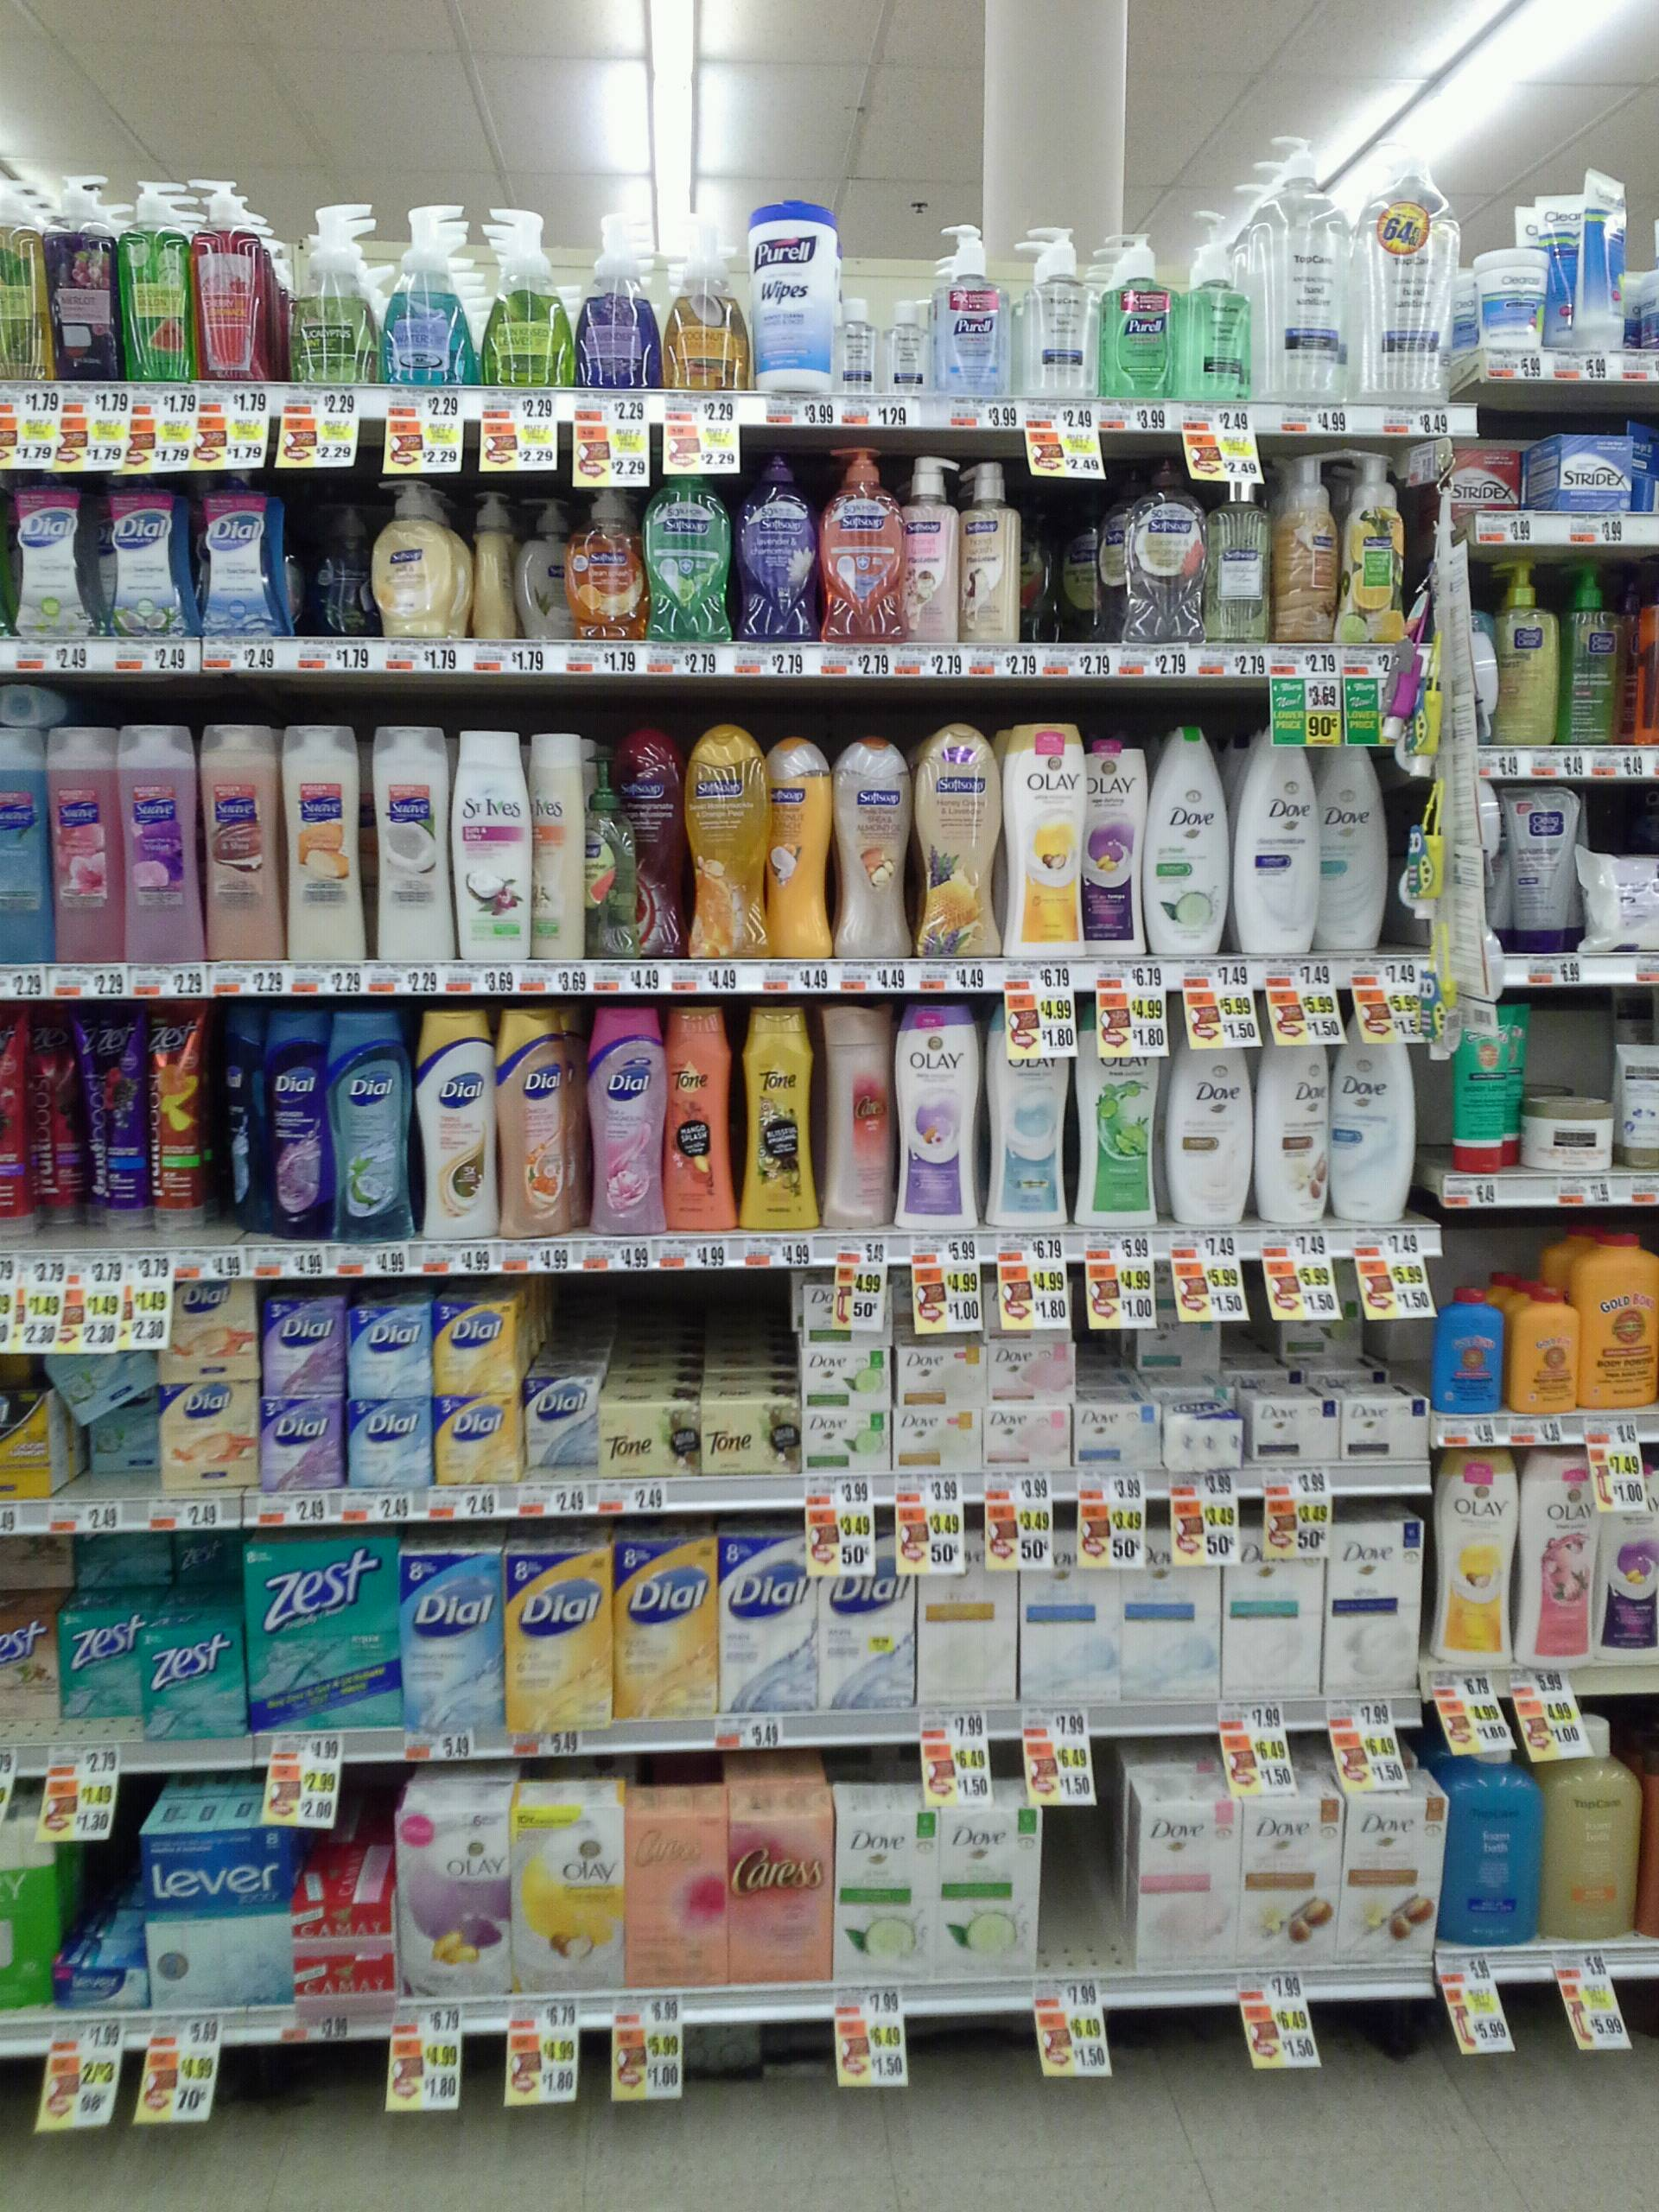Misplacement: (518, 1376, 601, 1484)
